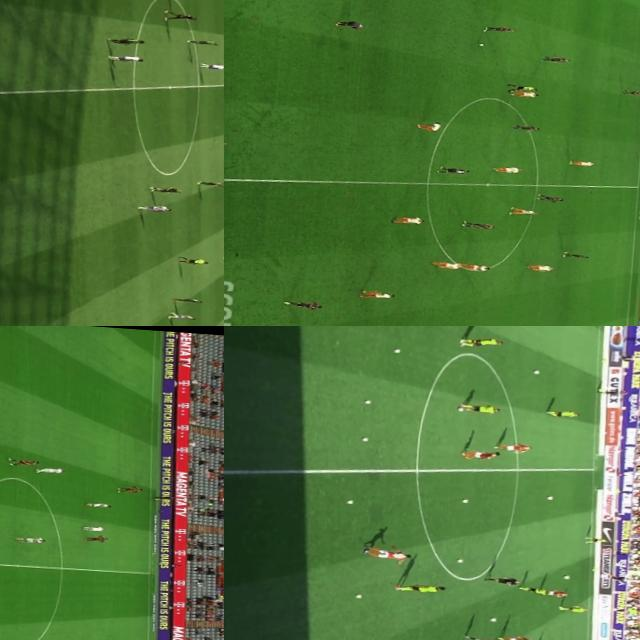ball: (344, 498, 354, 506), (473, 42, 487, 47), (487, 616, 498, 622), (458, 498, 468, 504), (454, 558, 462, 565), (360, 437, 370, 442), (530, 370, 540, 375), (456, 407, 466, 412), (389, 349, 401, 353), (352, 594, 362, 598), (362, 400, 372, 404), (544, 497, 554, 500), (562, 574, 568, 578)
player: (387, 581, 448, 597), (362, 547, 410, 562), (387, 214, 427, 230), (280, 298, 324, 312), (356, 286, 394, 302), (456, 336, 502, 349), (336, 17, 366, 34), (158, 10, 198, 22), (106, 36, 144, 47), (560, 250, 592, 262), (440, 164, 472, 176), (417, 121, 448, 133), (108, 53, 144, 63), (478, 24, 514, 34), (494, 444, 530, 454), (461, 403, 496, 413), (461, 450, 496, 460), (12, 535, 50, 544), (430, 259, 464, 269), (455, 262, 489, 272), (562, 158, 596, 168), (8, 456, 42, 466), (544, 409, 578, 419), (508, 122, 536, 134), (33, 466, 65, 476), (461, 220, 492, 230), (505, 206, 535, 216), (164, 313, 198, 321), (506, 90, 540, 98), (535, 193, 564, 202), (118, 485, 144, 495), (189, 38, 221, 46), (536, 589, 568, 597), (82, 535, 110, 544), (150, 186, 180, 194), (494, 164, 518, 174), (544, 54, 568, 64), (556, 604, 586, 612), (517, 586, 547, 594), (195, 61, 224, 69), (196, 178, 224, 186), (84, 501, 112, 509), (493, 634, 530, 640), (618, 86, 640, 96), (525, 264, 551, 272), (139, 205, 168, 212), (85, 525, 108, 533), (582, 537, 604, 545), (173, 297, 202, 303), (463, 636, 498, 640)
